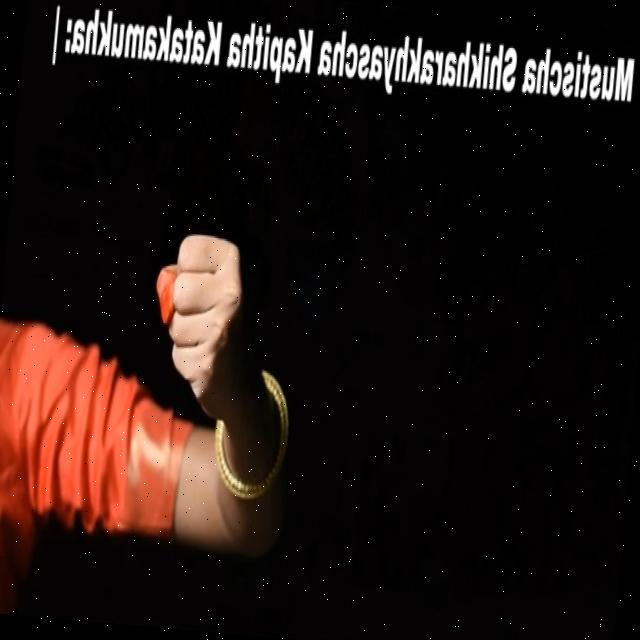Mushti: (129, 213, 262, 432)
bangle: (210, 394, 300, 508)
text: (41, 0, 640, 135)
